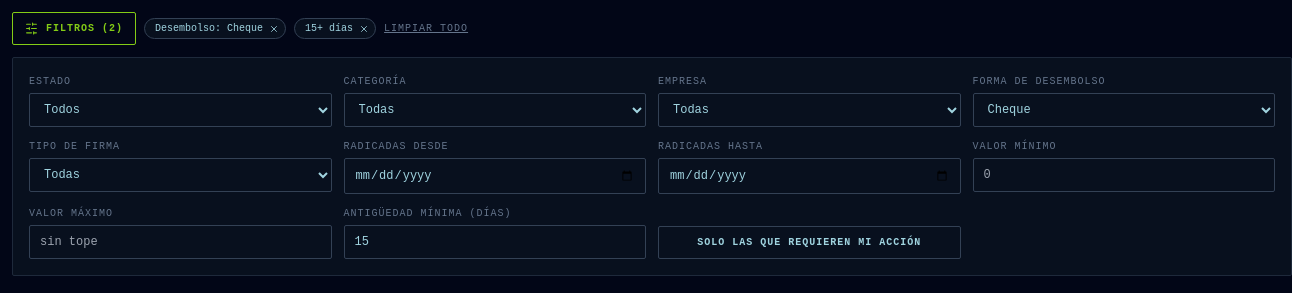
Test: Panel de filtros › el botón cuenta los filtros y cada ficha se puede quitar sola
This screenshot has width=1292, height=293.
Expected: the button "FILTROS (2)" is shown, [12, 12, 136, 45]
Click the button named "Quitar filtro: Desembolso: Cheque" at (274, 28), box [267, 22, 281, 36]
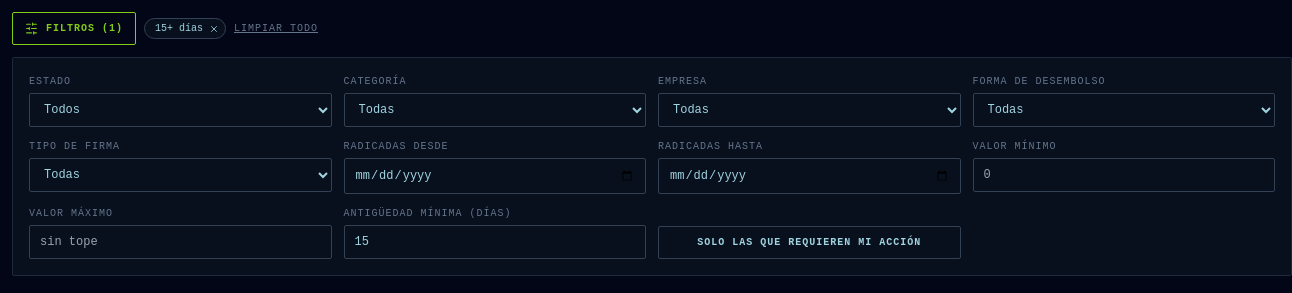
Result: the button "FILTROS (1)" is shown at [12, 12, 136, 45]
Result: the text "Desembolso: Cheque" is gone
